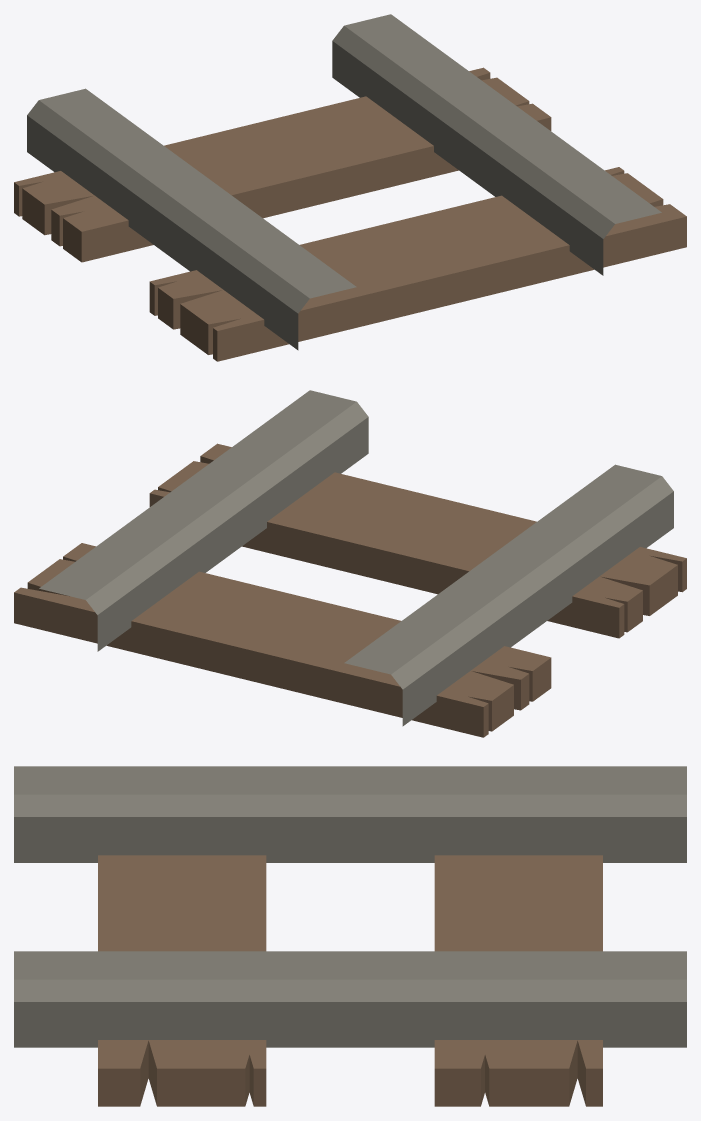
Rendered from Cave_Prop_Railway_Straight_3.glb.
3 views of the same model, one above another, from view 1: azimuth 30°, elevation 25°; view 2: azimuth 150°, elevation 25°; view 3: azimuth 270°, elevation 25° (orthographic). The views are drawn at different scales.
Visible parts, largest first — view 1: Cave_Prop_Railway_Straight_3; view 2: Cave_Prop_Railway_Straight_3; view 3: Cave_Prop_Railway_Straight_3.
Boxes of the visible parts, x1,y1,x2,y2 form: Cave_Prop_Railway_Straight_3: [14, 14, 686, 361]; Cave_Prop_Railway_Straight_3: [14, 390, 686, 737]; Cave_Prop_Railway_Straight_3: [14, 766, 686, 1106].
Size of the model in its own units: 1 by 0.15 by 1.
